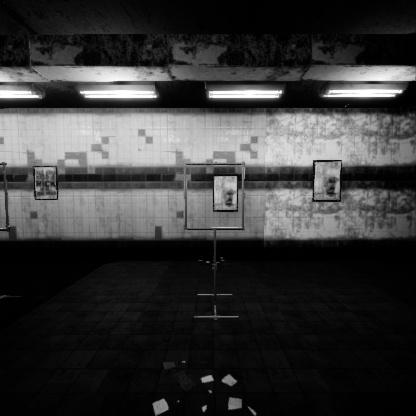gate: (184, 185, 250, 254)
